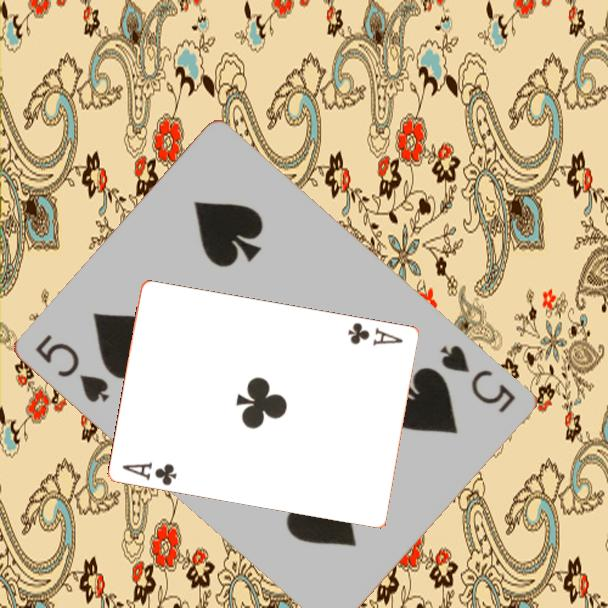c01: (119, 458, 180, 488), (345, 319, 406, 348)
s05: (437, 341, 519, 416), (32, 331, 113, 406)
